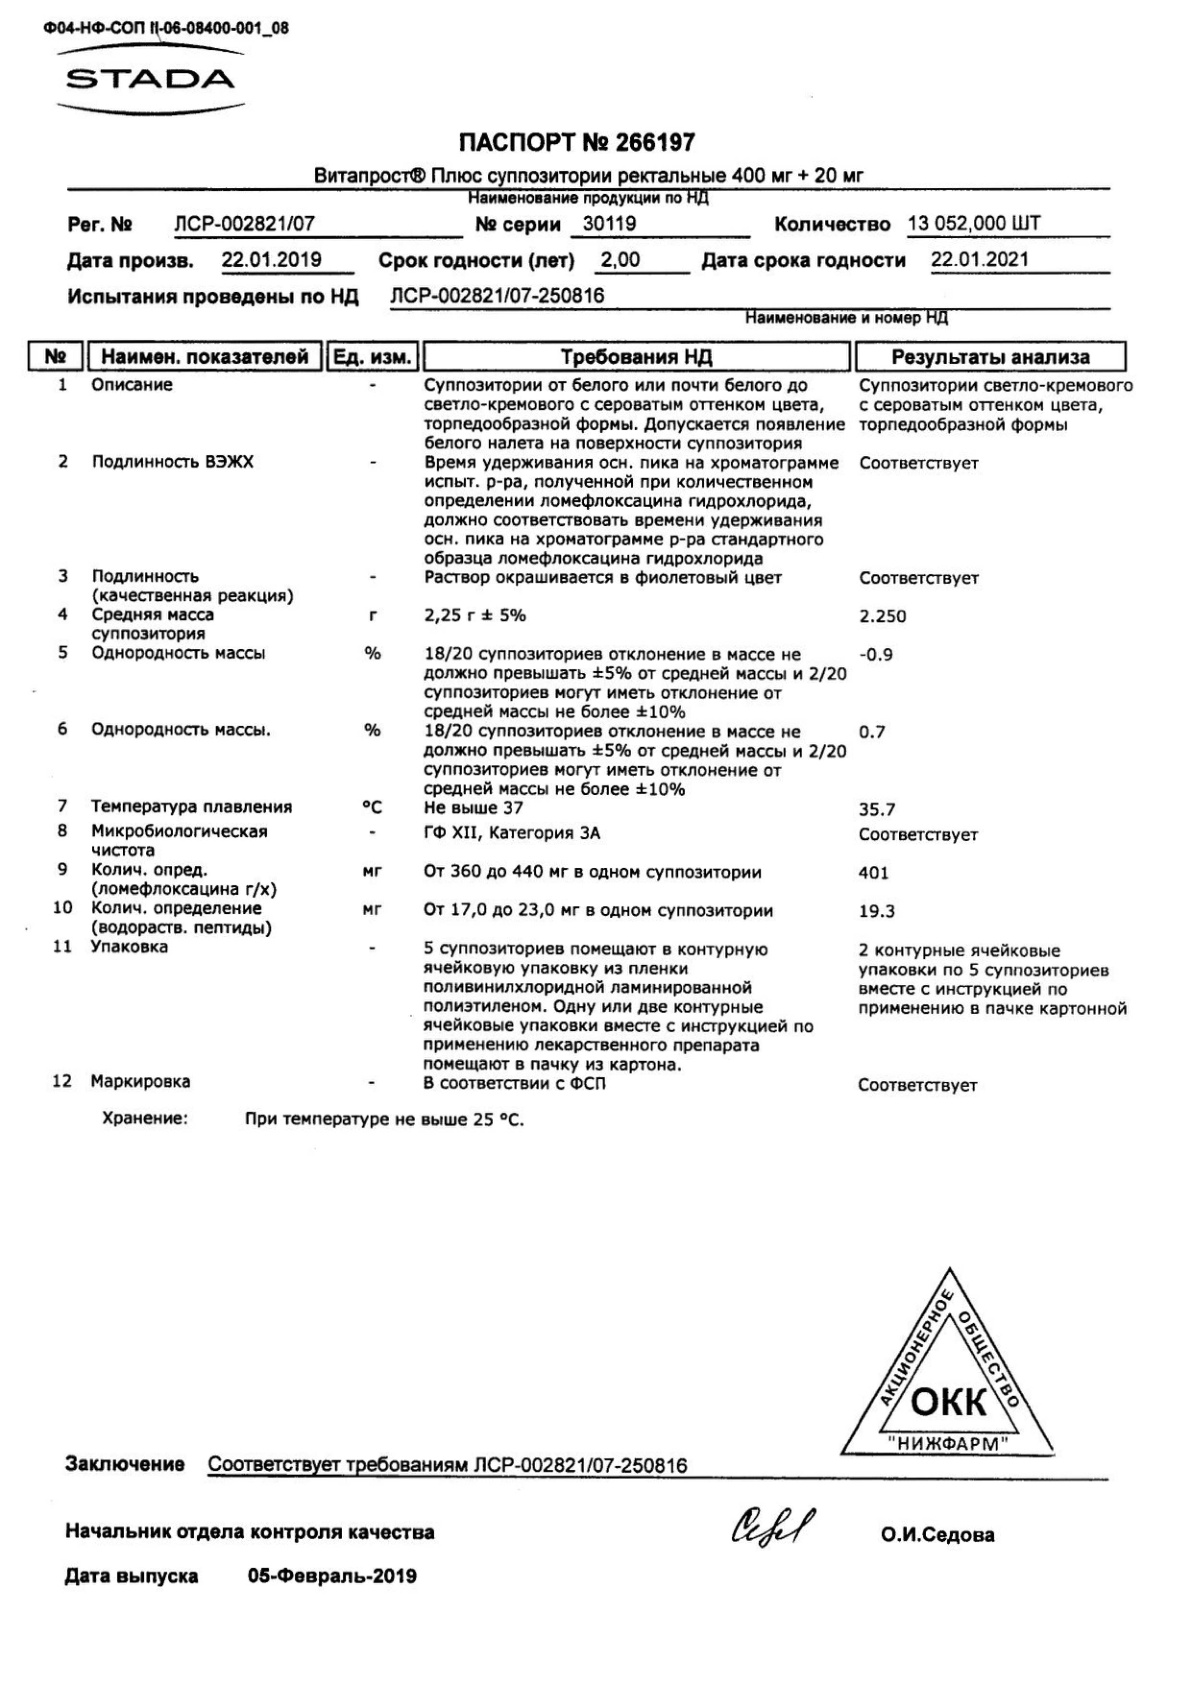partial_lined: (26, 338, 1137, 1140)
